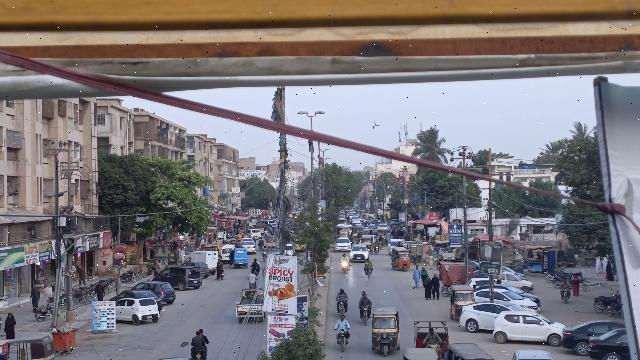Bike: (333, 328, 352, 352), (358, 304, 372, 327), (334, 298, 350, 316), (559, 286, 572, 304), (339, 260, 351, 275), (363, 264, 373, 281), (216, 269, 226, 282)
Car: (490, 309, 564, 346), (559, 317, 620, 355), (458, 301, 522, 334), (116, 297, 163, 326), (151, 265, 204, 290), (133, 279, 177, 304), (349, 243, 370, 264)
Cart: (411, 318, 450, 349)
Person: (421, 326, 442, 345), (3, 311, 17, 339), (190, 329, 206, 350), (421, 274, 433, 302), (28, 284, 41, 309), (431, 271, 441, 301), (92, 279, 105, 302), (335, 313, 350, 331), (411, 264, 421, 290), (358, 292, 373, 307), (334, 287, 349, 300), (419, 264, 428, 281), (560, 277, 571, 288), (248, 269, 257, 282), (216, 259, 221, 280), (340, 253, 350, 263), (364, 257, 373, 267), (220, 260, 224, 270)
Rickshaw: (370, 305, 401, 356), (448, 283, 472, 321), (389, 246, 411, 272), (233, 248, 249, 270)
Suzuki: (234, 287, 265, 323)
Truck: (189, 249, 219, 271)
